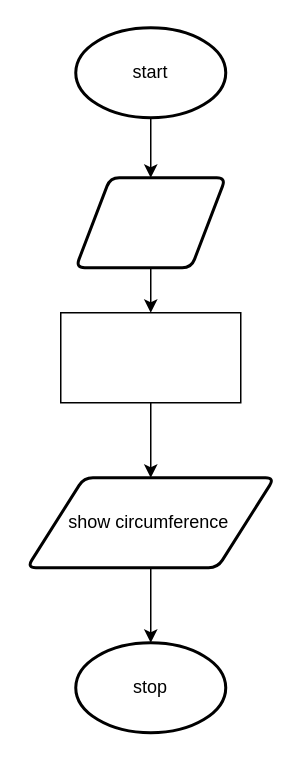
The diagram is 302 pixels wide and 759 high, and some of its shapes have lost their labels. The shapes that lost their labels are listed below. From the top down, each one's box as (x1, y1, x2, y2) in pixels, then its label:
(74, 176, 226, 268): Get radius
(59, 311, 241, 403): circumference = tau * radius
